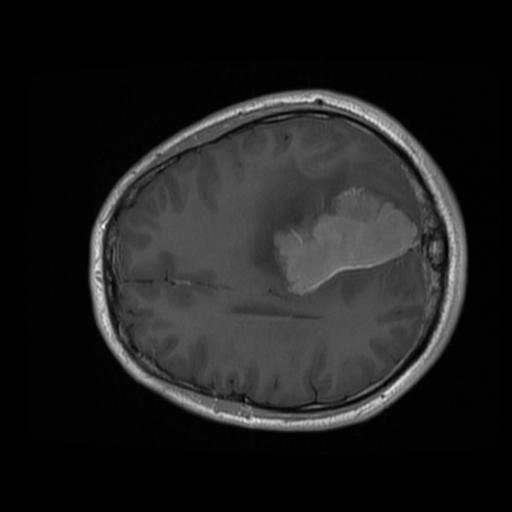meningioma: (272, 186, 417, 291)
